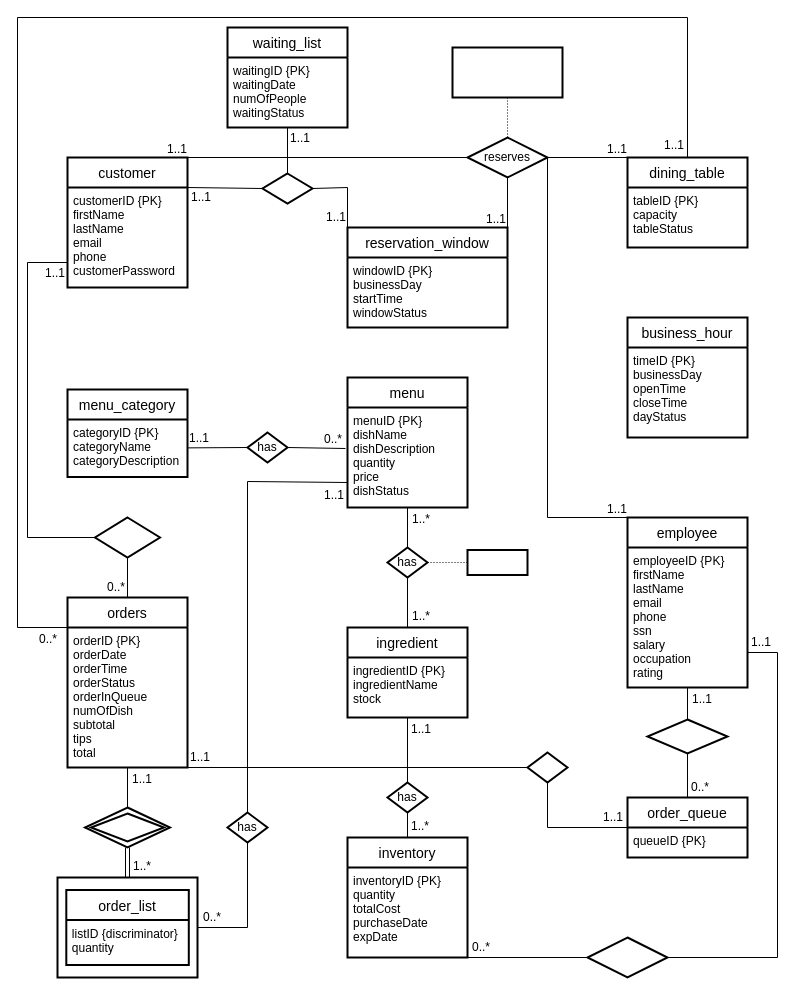
Some shapes in this 796 by 996 pixel diagram are drawn without their labels. The shapes that lost their labels are listed below. From the top down, each one's centre as x and y in pixels, then its label:
the point at 507,72: reservationDate numOfPeople reservationStatus
the point at 287,188: joins
the point at 127,537: places
the point at 497,562: quantity
the point at 687,736: assign to
the point at 547,767: put
the point at 127,827: contains
the point at 627,957: manages
